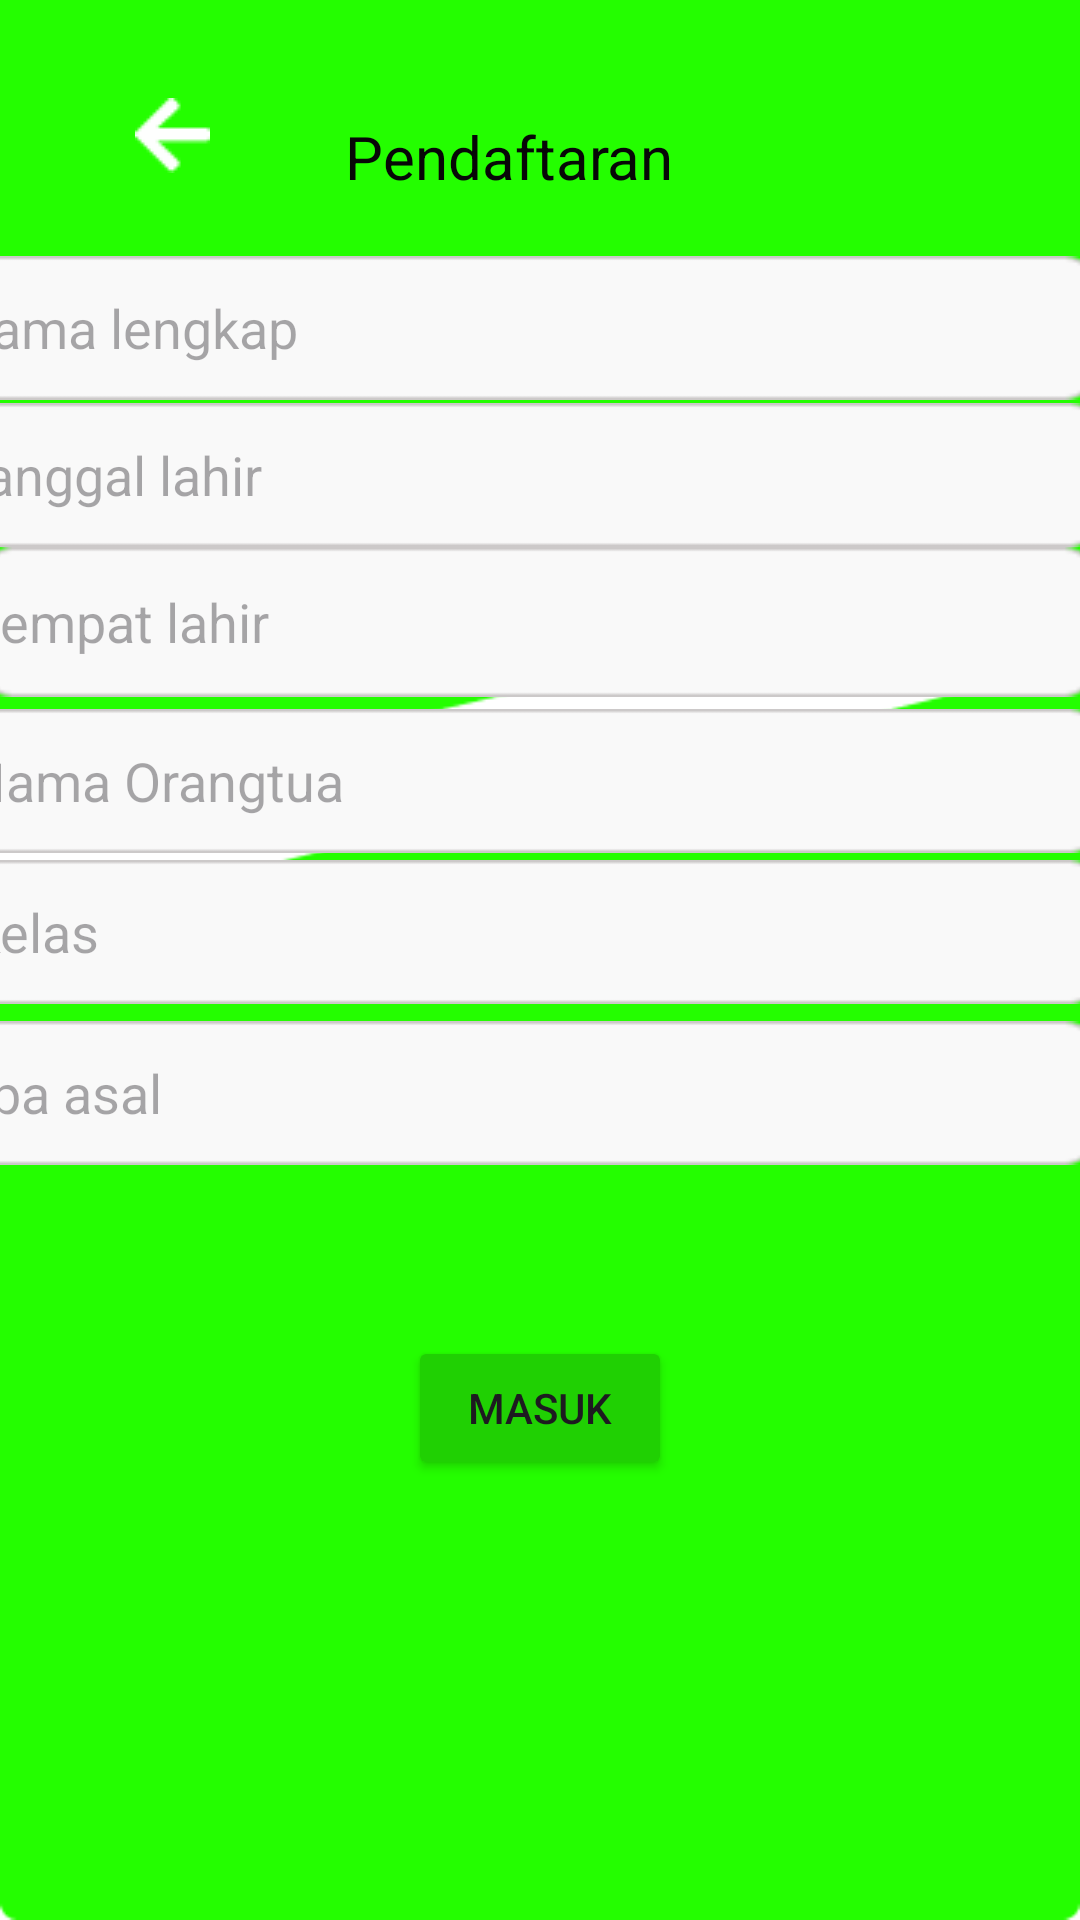

Icons on this 1080px×1920px Android screen, each with its box as [x1=x1, y1=y1, x2=x2, y2=y2]:
kembali: [x1=135, y1=98, x2=210, y2=173]
